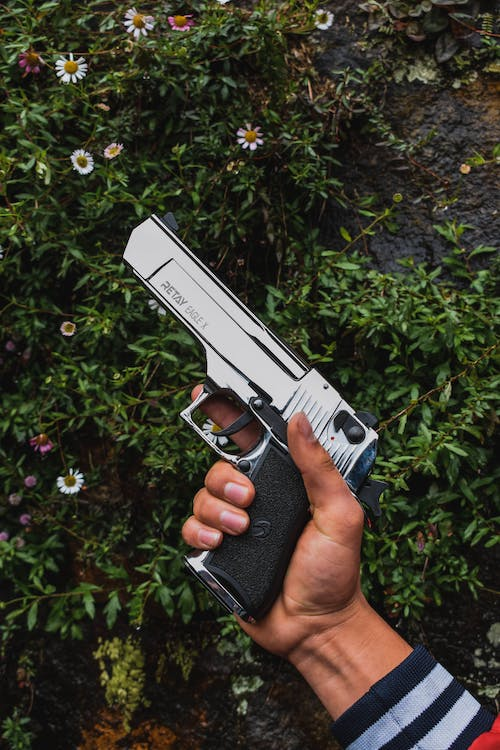gun: (121, 210, 384, 631)
